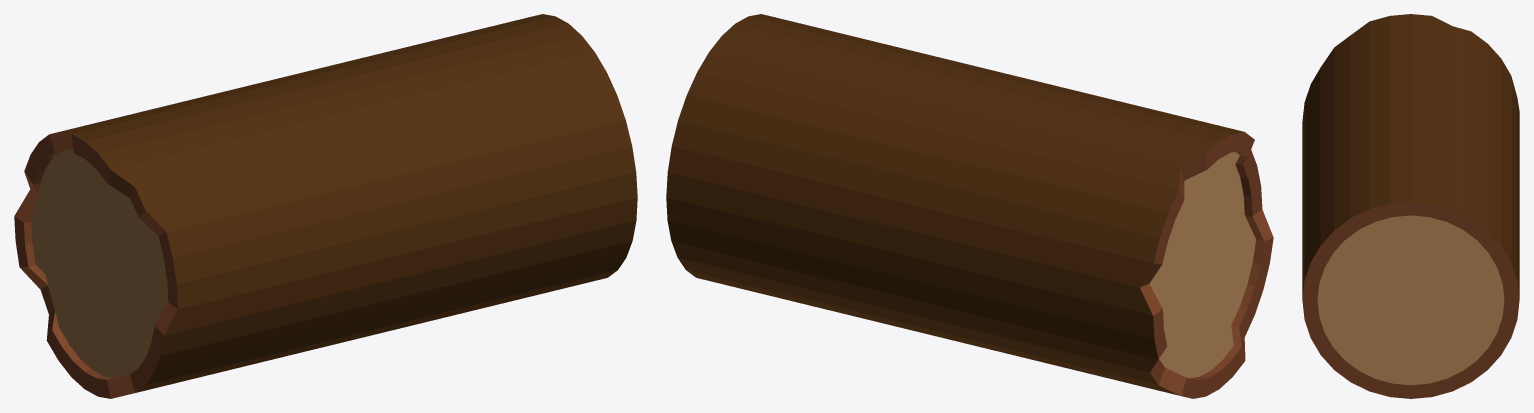
Rendered from LogLeft.fbx.
The picture shows the model from 3 angles, left to right: view 1: azimuth 30°, elevation 25°; view 2: azimuth 150°, elevation 25°; view 3: azimuth 270°, elevation 25°; orthographic projection. The views are drawn at different scales.
Parts seen in each view (by area): view 1: Бревно лево; view 2: Бревно лево; view 3: Бревно лево.
Part boxes in pixels (left/top/right/bottom): Бревно лево: left=14, top=14, right=637, bottom=398; Бревно лево: left=666, top=14, right=1273, bottom=398; Бревно лево: left=1302, top=14, right=1519, bottom=398.
Size of the model in its own units: 619 by 300 by 300.
